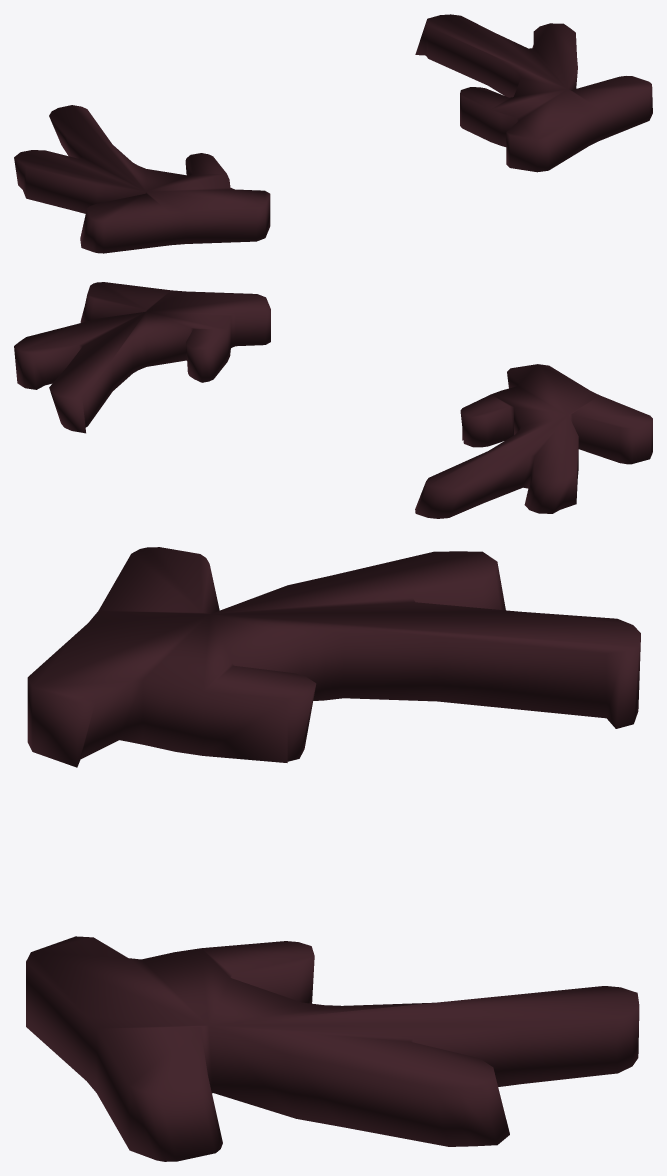
File: reindeer.glb
3 views of the same model, one above another, from view 1: azimuth 30°, elevation 25°; view 2: azimuth 150°, elevation 25°; view 3: azimuth 270°, elevation 25° (orthographic). The views are drawn at different scales.
Visible parts, largest first — view 1: Circle.025; view 2: Circle.025; view 3: Circle.025.
Boxes of the visible parts, box(x1,y1,x2,y2) form: Circle.025: box(14, 14, 652, 253); Circle.025: box(14, 282, 652, 518); Circle.025: box(26, 547, 640, 1161).
Size of the model in its own units: 2.11 by 0.1151 by 0.9913.
